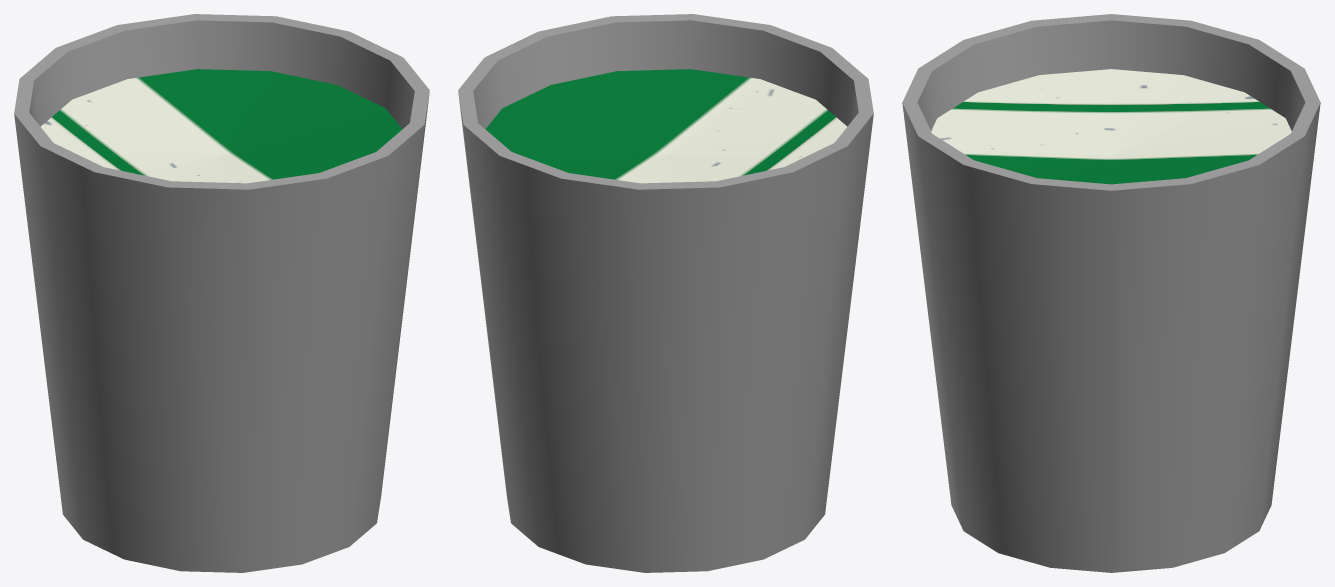
The model's file is Glas.fbx.
3 renders of one model, left to right at view 1: azimuth 30°, elevation 25°; view 2: azimuth 150°, elevation 25°; view 3: azimuth 270°, elevation 25°, orthographic.
Visible parts, largest first — view 1: Glas, Vloeistof; view 2: Glas, Vloeistof; view 3: Glas, Vloeistof.
Boxes of the visible parts, left/top/right/bottom form: Glas: left=14, top=14, right=429, bottom=572; Vloeistof: left=40, top=69, right=402, bottom=183; Glas: left=458, top=14, right=873, bottom=572; Vloeistof: left=485, top=69, right=847, bottom=183; Glas: left=902, top=14, right=1320, bottom=572; Vloeistof: left=931, top=69, right=1291, bottom=184.
Size of the model in its own units: 9.09 by 9.66 by 9.09.
